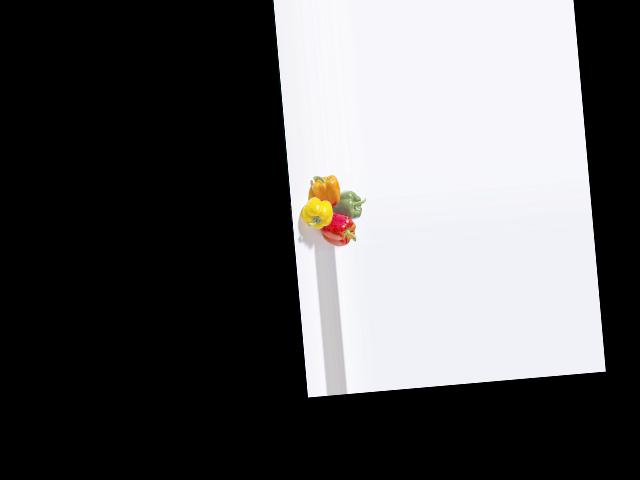bell_pepper: (319, 211, 360, 249)
